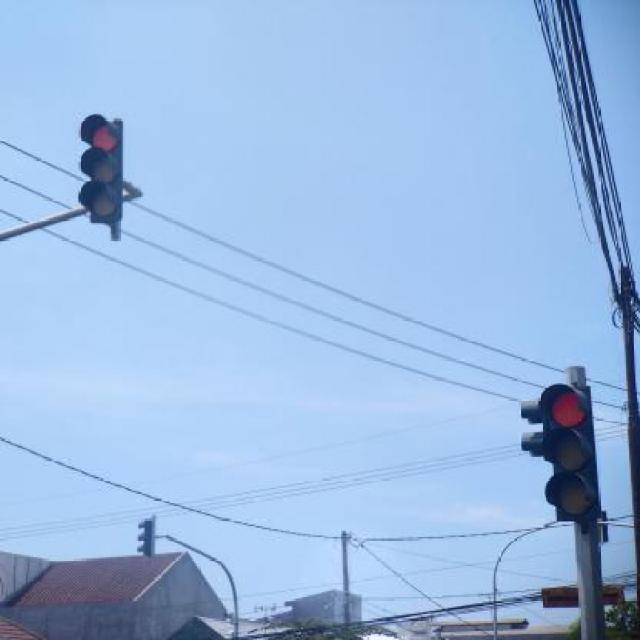traffic light: (542, 385, 600, 525), (79, 117, 128, 218)
